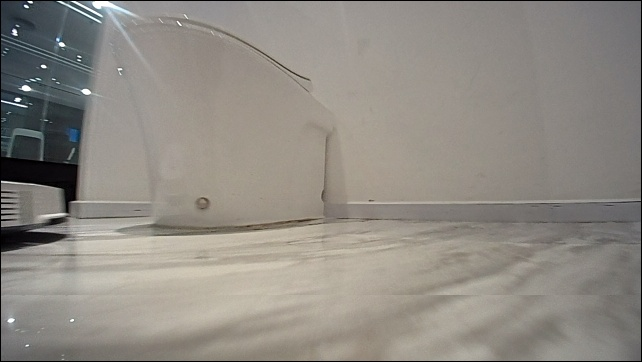toilet: (102, 11, 332, 230)
